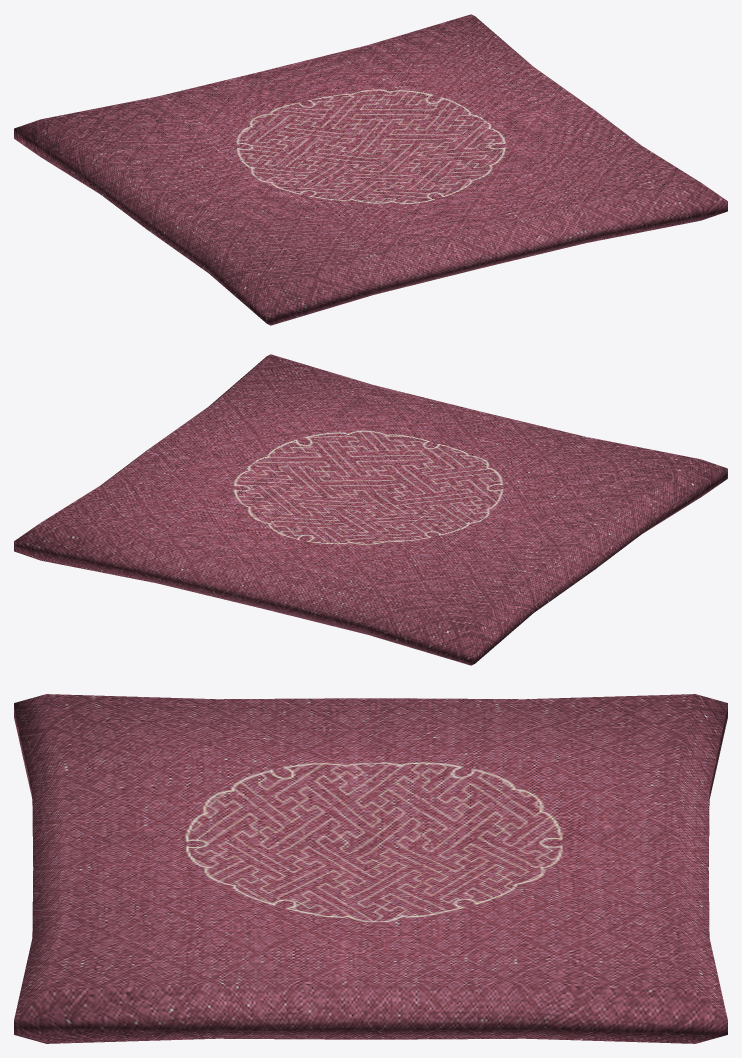
The model's file is BgMD_zabuton.fbx.
The picture shows the model from 3 angles, top to bottom: view 1: azimuth 30°, elevation 25°; view 2: azimuth 150°, elevation 25°; view 3: azimuth 270°, elevation 25°; orthographic projection. The views are drawn at different scales.
Visible parts, largest first — view 1: BgMD_zabuton; view 2: BgMD_zabuton; view 3: BgMD_zabuton.
Part boxes in pixels (x1=…): BgMD_zabuton: x1=14, y1=14, x2=727, y2=325; BgMD_zabuton: x1=14, y1=354, x2=727, y2=665; BgMD_zabuton: x1=14, y1=694, x2=727, y2=1043.
Bounding box in the file's own units: 55.48 × 6.05 × 52.74.
Materials: 1 (1 with a texture image).
